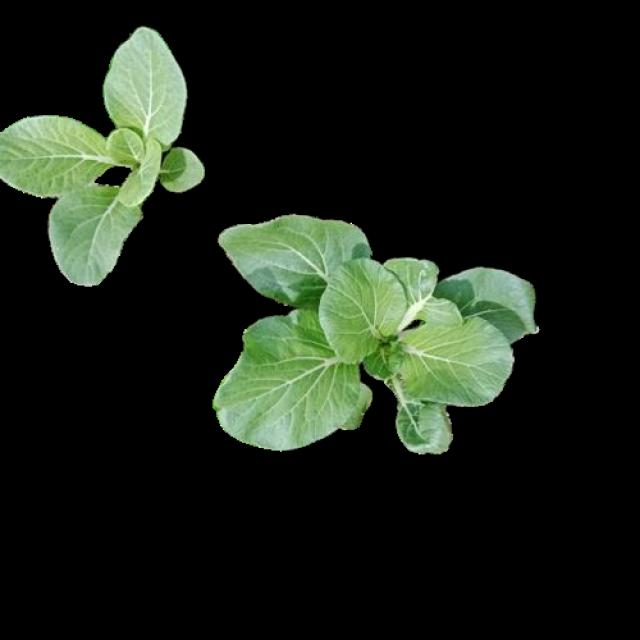healthy: (207, 208, 534, 446), (4, 27, 207, 288)
not-mature: (210, 211, 536, 448), (1, 24, 205, 286)
